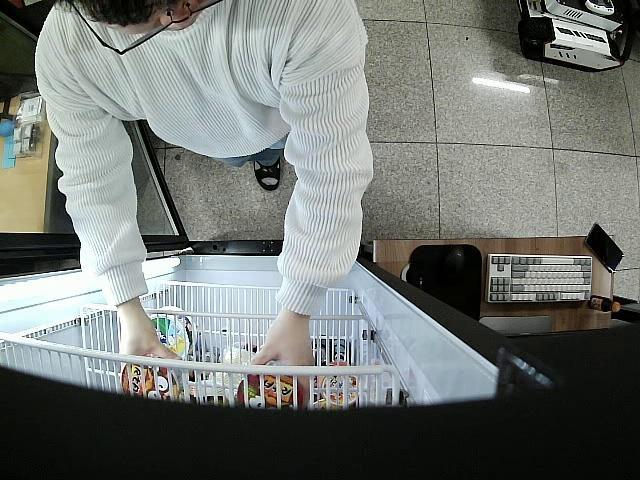06_nuguri_S: (122, 352, 184, 404), (235, 369, 306, 410)
